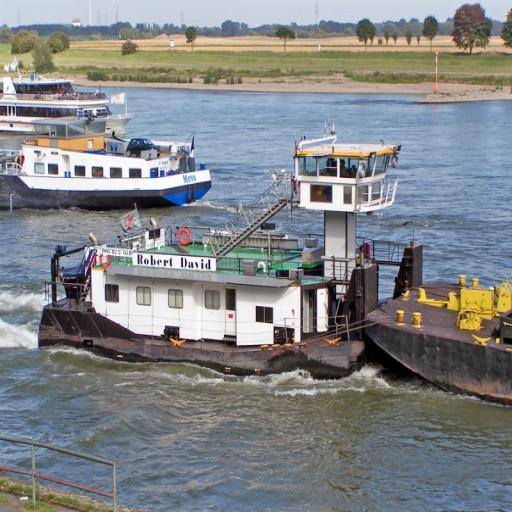tugboat: (36, 113, 430, 393)
